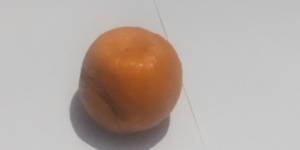BAD: (73, 25, 183, 136)
